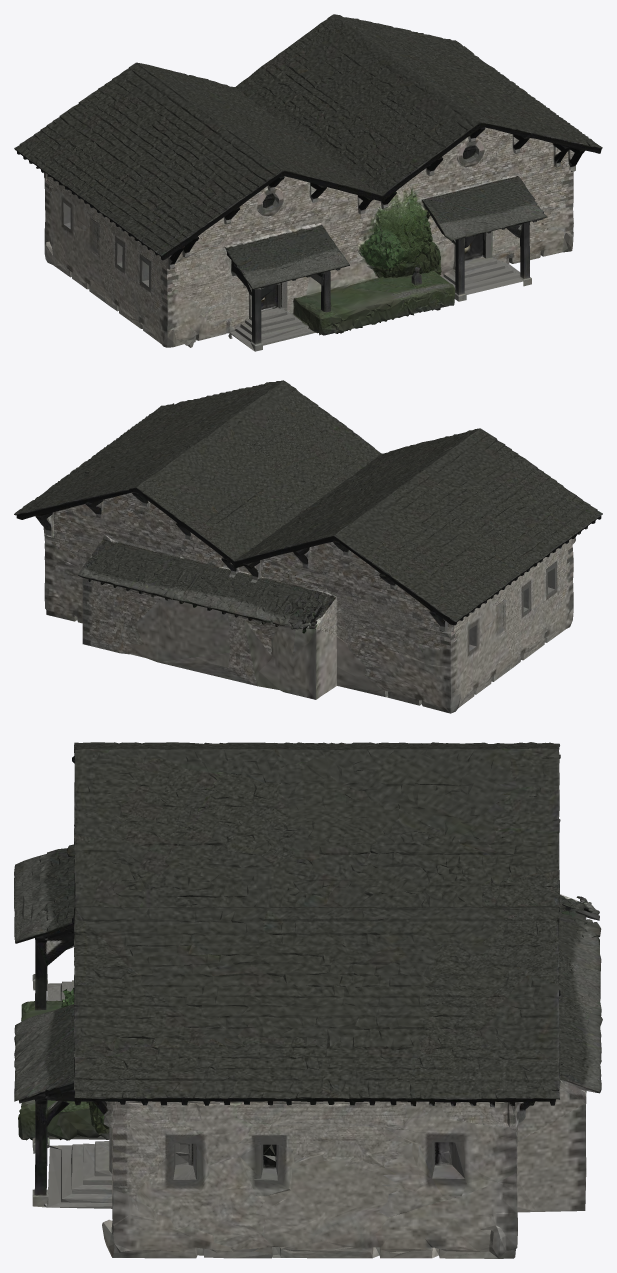
Rendered from horreum_saalburg_a.meshy.reduced.glb.
The picture shows the model from 3 angles, top to bottom: view 1: azimuth 30°, elevation 25°; view 2: azimuth 150°, elevation 25°; view 3: azimuth 270°, elevation 25°; orthographic projection. The views are drawn at different scales.
Size of the model in its own units: 1.9 by 0.6924 by 1.33.
Materials: 1 (1 with a texture image).
